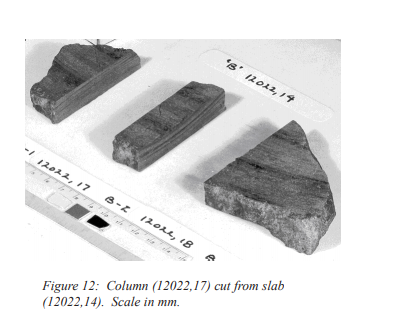Basalt: (190, 159, 339, 264), (34, 34, 138, 109), (168, 71, 234, 149)
